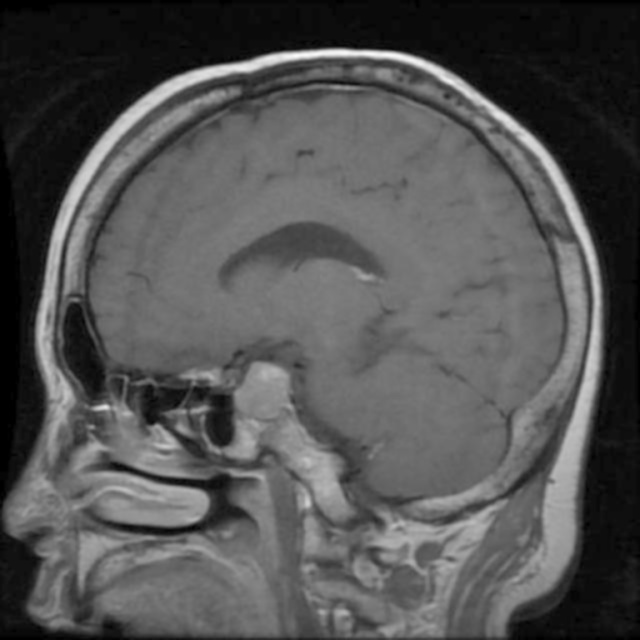no tumor: (231, 362, 299, 423)
